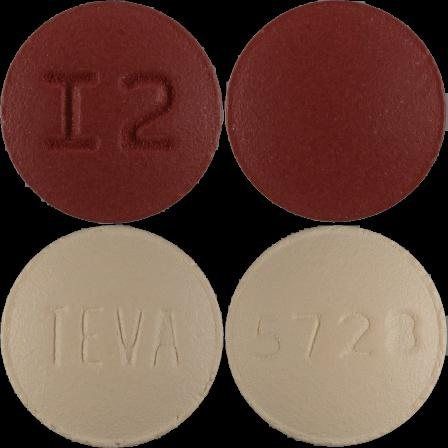61786-236: (0, 0, 224, 224)
